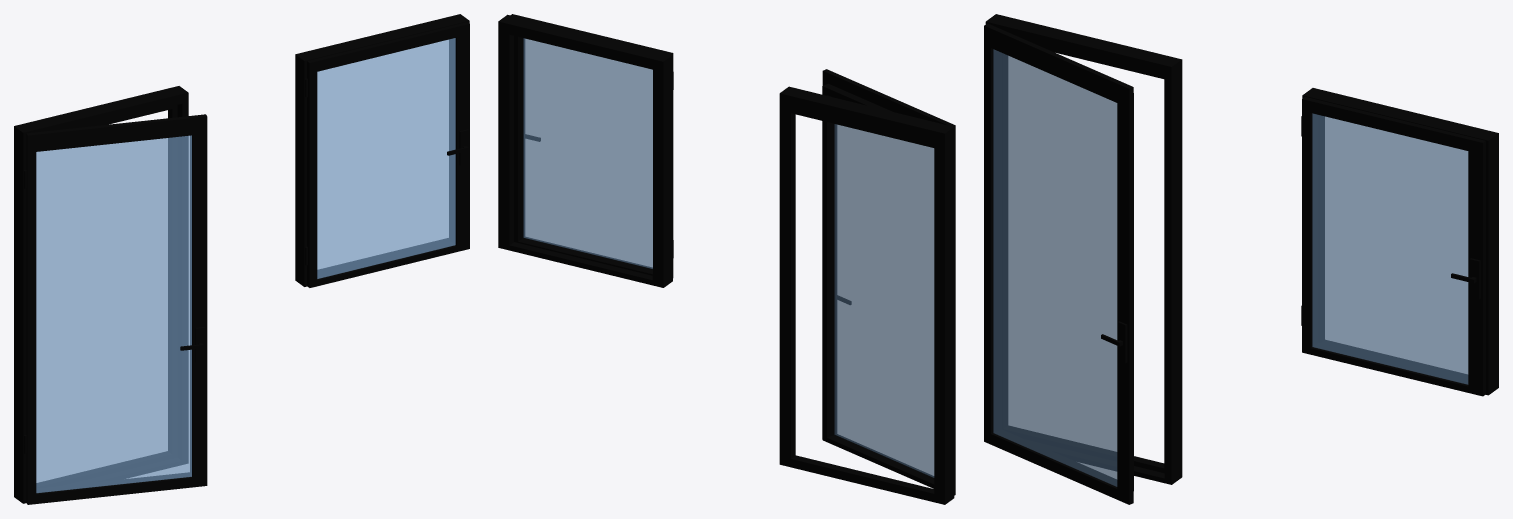
The model's file is window_opening.fbx.
3 views of the same model, side by side, from view 1: azimuth 30°, elevation 25°; view 2: azimuth 150°, elevation 25°; view 3: azimuth 330°, elevation 25° (orthographic). The views are drawn at different scales.
Visible parts, largest first — view 1: Anta.001, Anta.003, Telaio.001, Telaio.003; view 2: Anta.001, Anta.003, Telaio.001, Telaio.003; view 3: Anta.001, Anta.003, Telaio.001, Telaio.003.
Boxes of the visible parts, x1,y1,x2,y2 form: Anta.001: (26,114,207,504); Anta.003: (305,22,469,287); Telaio.001: (14,86,188,503); Telaio.003: (295,14,469,286); Anta.001: (822,69,955,495); Anta.003: (510,14,673,277); Telaio.001: (779,86,954,504); Telaio.003: (498,14,672,287); Anta.001: (984,24,1133,504); Anta.003: (1301,97,1485,396); Telaio.001: (985,14,1182,484); Telaio.003: (1302,88,1498,395).
Size of the model in its own units: 557 by 446 by 86.46.
